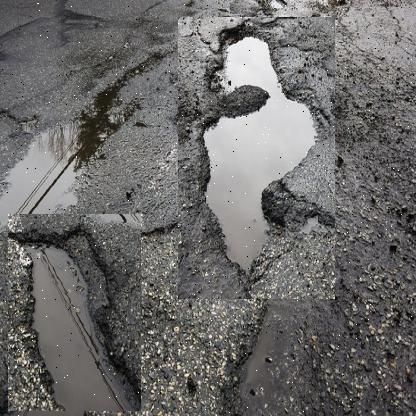pothole_water: (8, 214, 142, 413)
pothole_water_m: (178, 17, 336, 300)
